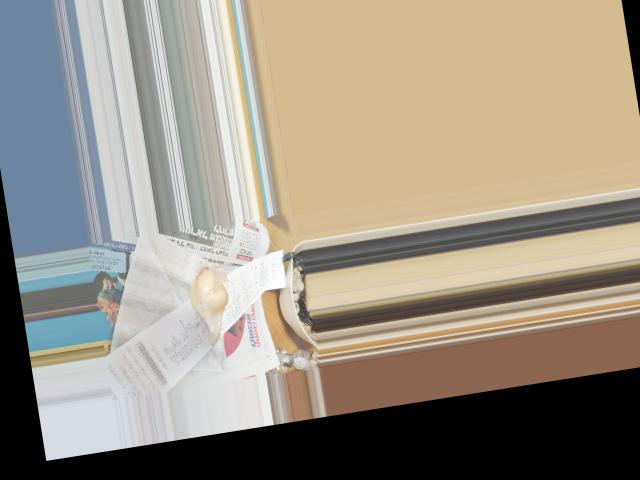onion: (188, 267, 230, 329)
